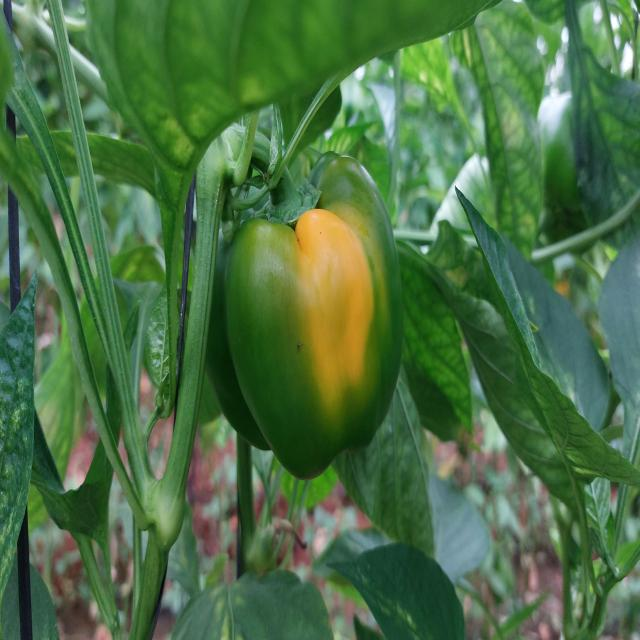GreenishYellow--Can-be-Harvested: (200, 162, 424, 467)
